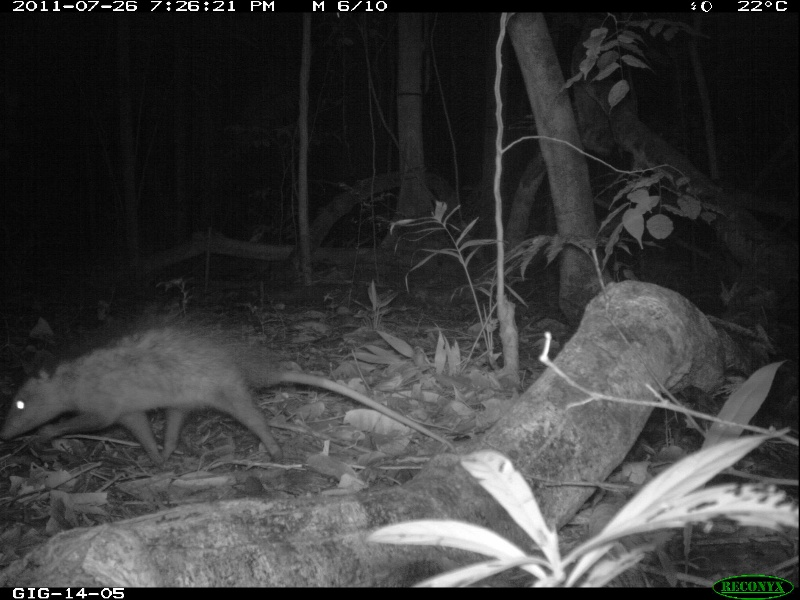opossum: (2, 323, 466, 465)
